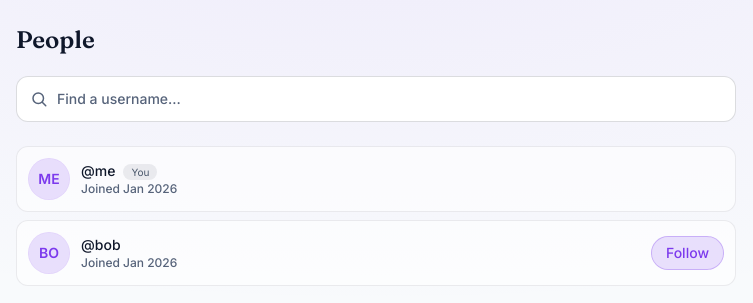
Test case: Members › follows a member
The width and height of the screenshot is (753, 303).
Click the button labelled "Follow" at (687, 253), box [652,237,723,269]
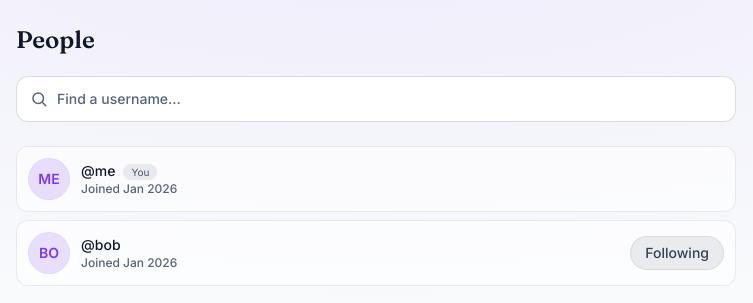
Check: the button with aria-label "Unfollow" is shown, box [631,237,723,269]
